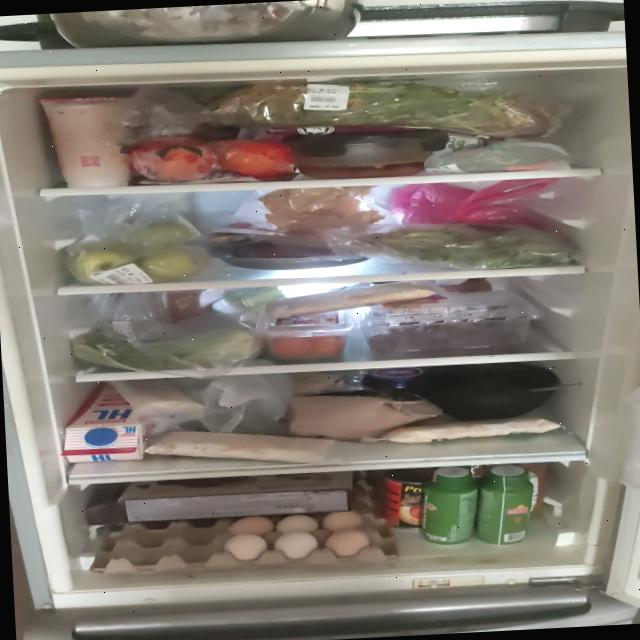apple: (66, 220, 216, 288)
egg: (88, 509, 398, 576)
grape: (362, 289, 540, 354)
leafy_greens: (202, 69, 558, 154), (369, 220, 574, 274)
orange: (130, 128, 296, 184)
tempeh: (144, 422, 338, 472), (270, 280, 437, 319), (384, 414, 562, 444), (109, 377, 204, 419)
unknown_bag: (387, 177, 563, 226), (198, 372, 298, 434), (422, 135, 570, 176)
